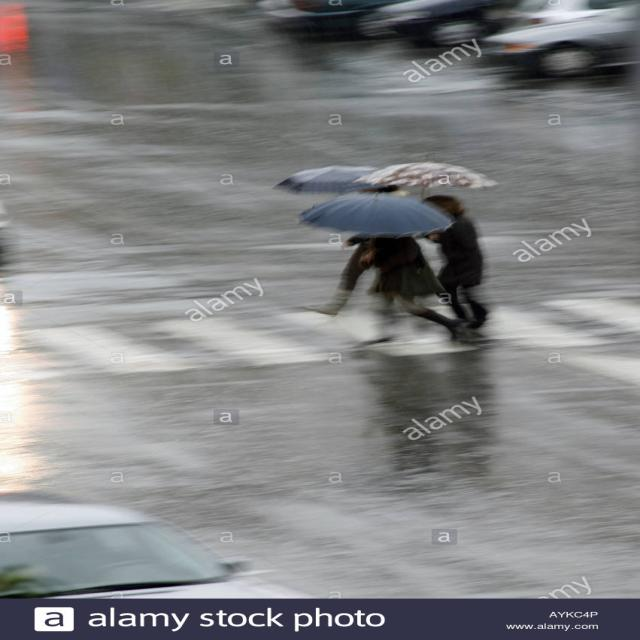body: (299, 183, 519, 317), (366, 334, 497, 471), (357, 236, 472, 346), (414, 193, 491, 332)
